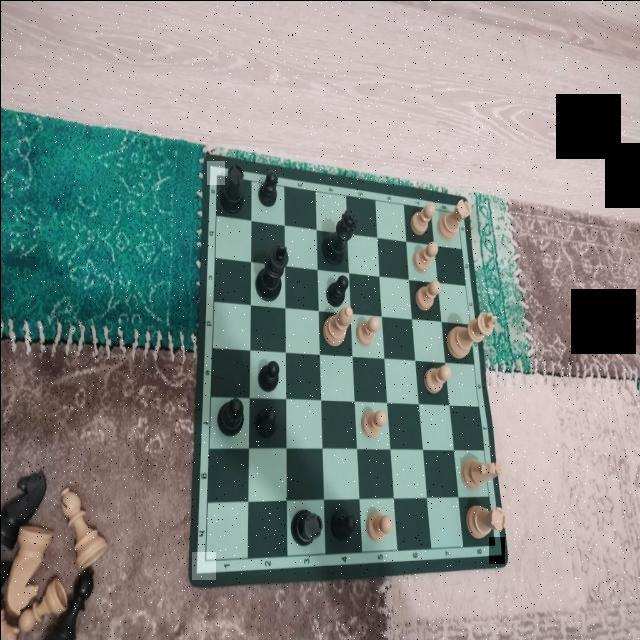chess-table-corners: (191, 551, 215, 579), (206, 160, 224, 184), (488, 536, 504, 563)
